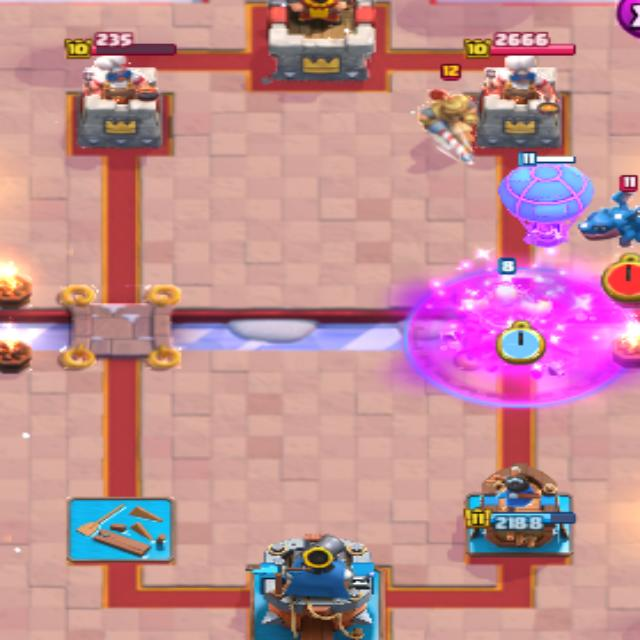EElectroDrag: (580, 191, 639, 246)
EKingTower: (253, 0, 387, 90)
EPrince: (418, 90, 477, 164)
EnemyPanTower: (73, 57, 171, 153), (477, 56, 561, 147)
OBalloon: (500, 158, 593, 247)
OwnKingTower: (246, 535, 379, 639)
OwnPrincessTower: (464, 464, 574, 555)
TowerDown: (69, 500, 171, 561)
